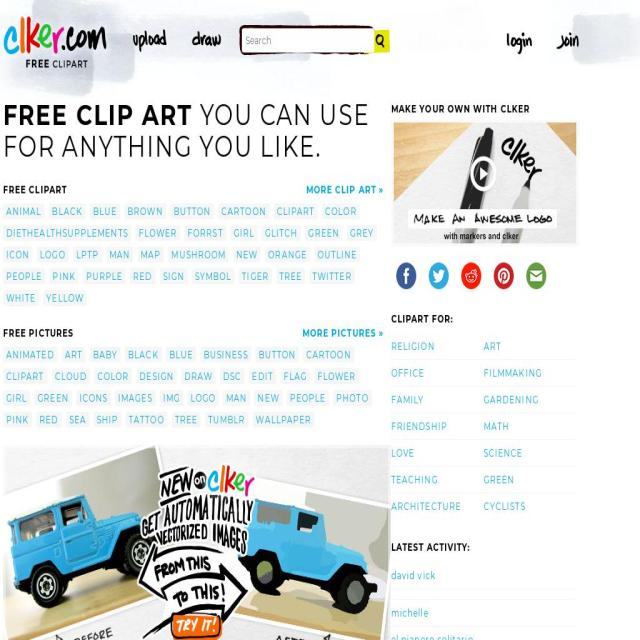button: (0, 10, 111, 75), (391, 333, 484, 361), (391, 360, 484, 388), (391, 413, 484, 441), (391, 440, 484, 468), (484, 333, 576, 361), (484, 360, 576, 388), (484, 413, 576, 441), (484, 440, 576, 468), (391, 387, 484, 414), (391, 467, 484, 494), (391, 493, 484, 520), (484, 387, 576, 414), (484, 467, 576, 494), (484, 493, 576, 520), (3, 224, 131, 241), (168, 246, 230, 262), (253, 411, 315, 427), (3, 346, 58, 362), (218, 203, 270, 219), (200, 346, 251, 362), (304, 346, 354, 362), (135, 224, 181, 241), (43, 289, 88, 306), (314, 246, 361, 262), (286, 389, 330, 406), (265, 246, 311, 262), (309, 268, 355, 284), (314, 368, 360, 384), (184, 224, 227, 241), (273, 203, 318, 219), (3, 368, 48, 384), (204, 411, 249, 427), (170, 203, 214, 219), (82, 268, 126, 284), (191, 268, 235, 284), (255, 346, 299, 362), (115, 389, 156, 406), (124, 203, 167, 219), (3, 268, 46, 284), (261, 224, 301, 241), (333, 389, 373, 406), (3, 203, 45, 219), (136, 368, 178, 384), (126, 411, 168, 427), (305, 224, 343, 241), (34, 389, 72, 406), (322, 203, 361, 219), (51, 368, 90, 384), (3, 289, 39, 306), (125, 346, 163, 362), (94, 368, 132, 384), (76, 389, 111, 406), (49, 203, 86, 219), (181, 368, 216, 384), (238, 268, 272, 284), (187, 389, 219, 406), (347, 224, 378, 241), (37, 246, 69, 262), (90, 346, 122, 362), (254, 389, 284, 406), (280, 368, 311, 384), (90, 203, 120, 219), (3, 246, 33, 262), (72, 246, 102, 262), (50, 268, 80, 284), (276, 268, 306, 284), (166, 346, 196, 362), (3, 411, 33, 427), (171, 411, 201, 427), (230, 224, 258, 241), (3, 389, 31, 406), (223, 389, 251, 406), (105, 246, 134, 262), (93, 411, 122, 427), (233, 246, 261, 262), (160, 268, 188, 284), (249, 368, 277, 384), (138, 246, 164, 262), (130, 268, 156, 284), (36, 411, 62, 427), (159, 389, 183, 406), (61, 346, 86, 362), (220, 368, 245, 384), (66, 411, 90, 427)
field: (242, 28, 374, 52), (377, 29, 393, 51)
heading: (392, 342, 602, 556), (3, 128, 321, 165), (3, 97, 193, 133), (192, 97, 370, 133), (392, 100, 602, 117), (392, 311, 602, 327), (4, 324, 74, 341), (3, 181, 67, 197)
image: (3, 444, 391, 640), (391, 120, 580, 248), (0, 10, 111, 72), (131, 29, 169, 54), (502, 29, 540, 54), (550, 29, 588, 54), (189, 29, 226, 54), (396, 262, 416, 290), (429, 262, 449, 290), (461, 262, 481, 290), (494, 262, 514, 290), (526, 262, 546, 290)
link: (306, 182, 384, 196), (302, 326, 384, 339), (391, 632, 474, 640), (391, 568, 436, 582), (391, 606, 429, 619)
